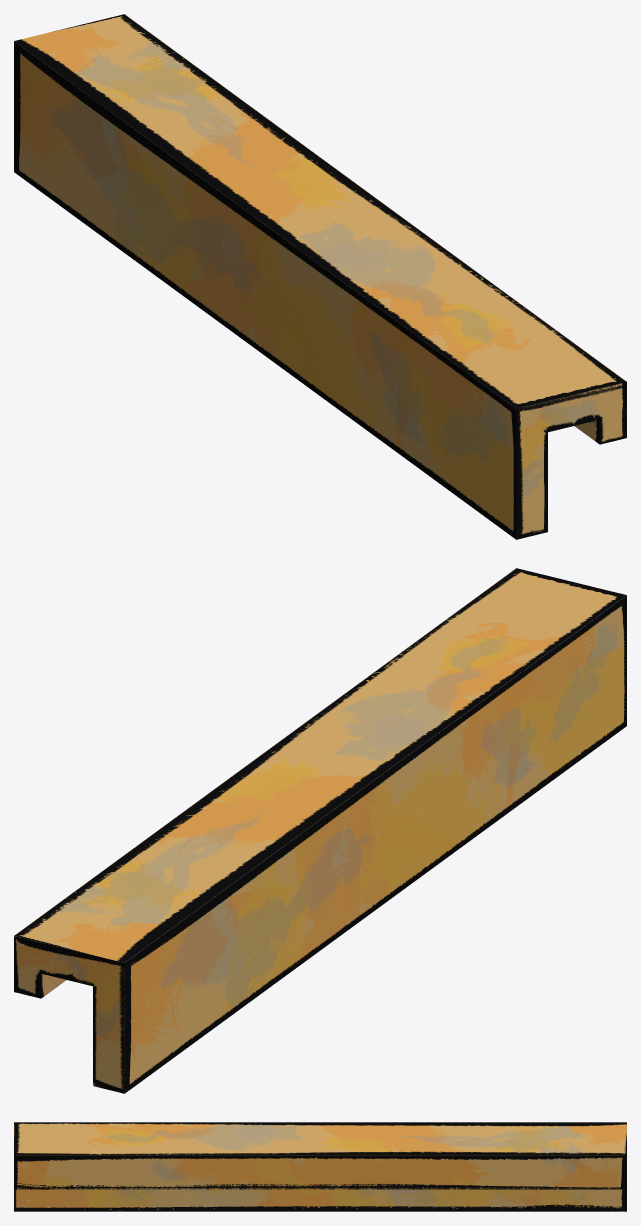
The model's file is 1-LedgeSmall.fbx.
The picture shows the model from 3 angles, top to bottom: view 1: azimuth 30°, elevation 25°; view 2: azimuth 150°, elevation 25°; view 3: azimuth 270°, elevation 25°; orthographic projection. The views are drawn at different scales.
Parts seen in each view (by area): view 1: Cube.016; view 2: Cube.016; view 3: Cube.016.
Part boxes in pixels (x1=…): Cube.016: x1=14, y1=14, x2=626, y2=539; Cube.016: x1=14, y1=568, x2=626, y2=1093; Cube.016: x1=14, y1=1122, x2=626, y2=1211.
Bounding box in the file's own units: 99.86 × 113 × 785.
1 material, 1 textured.
